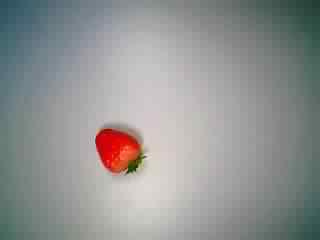strawberry: (89, 120, 151, 179)
